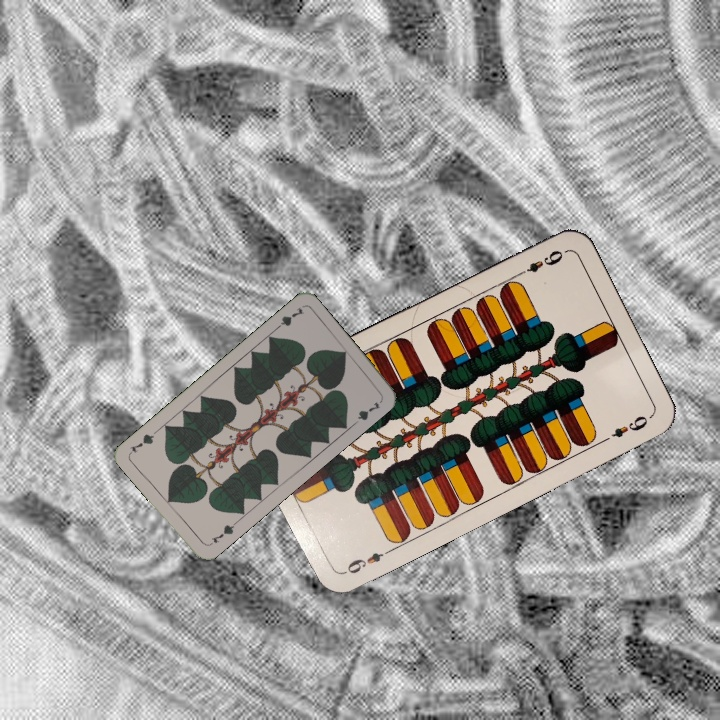E9: (513, 245, 566, 279), (339, 545, 394, 577)
G7: (270, 303, 307, 333), (208, 518, 239, 546)
